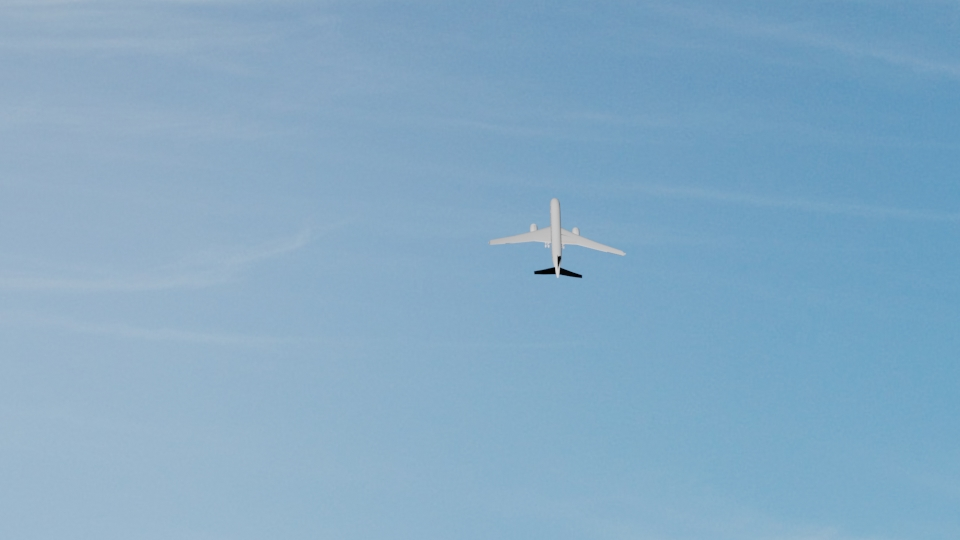plane: (489, 196, 626, 281)
